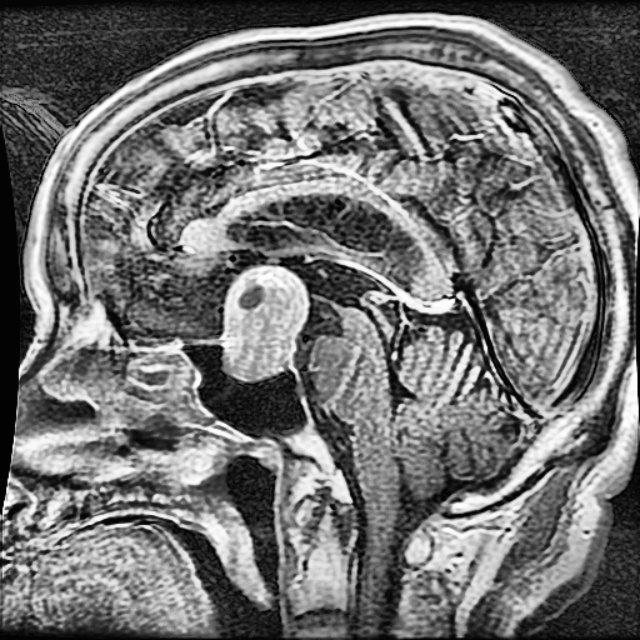Pituitary: (222, 263, 308, 380)
